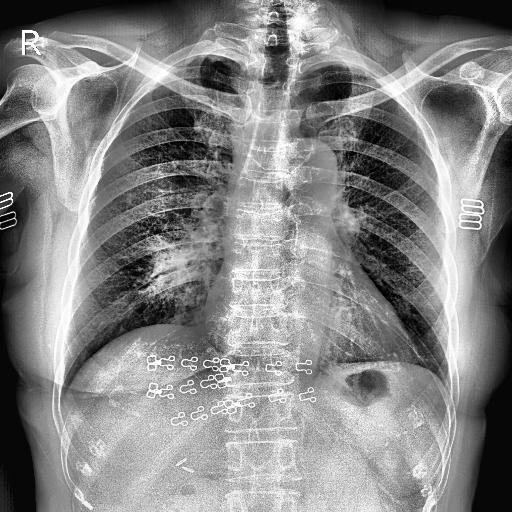0- Aortic enlargement: (280, 137, 340, 205), (277, 140, 341, 200), (284, 138, 340, 192)
11- Pleural thickening: (300, 60, 396, 90), (171, 53, 244, 70)
3- Cardiomegaly: (200, 295, 420, 377), (204, 286, 416, 361)
